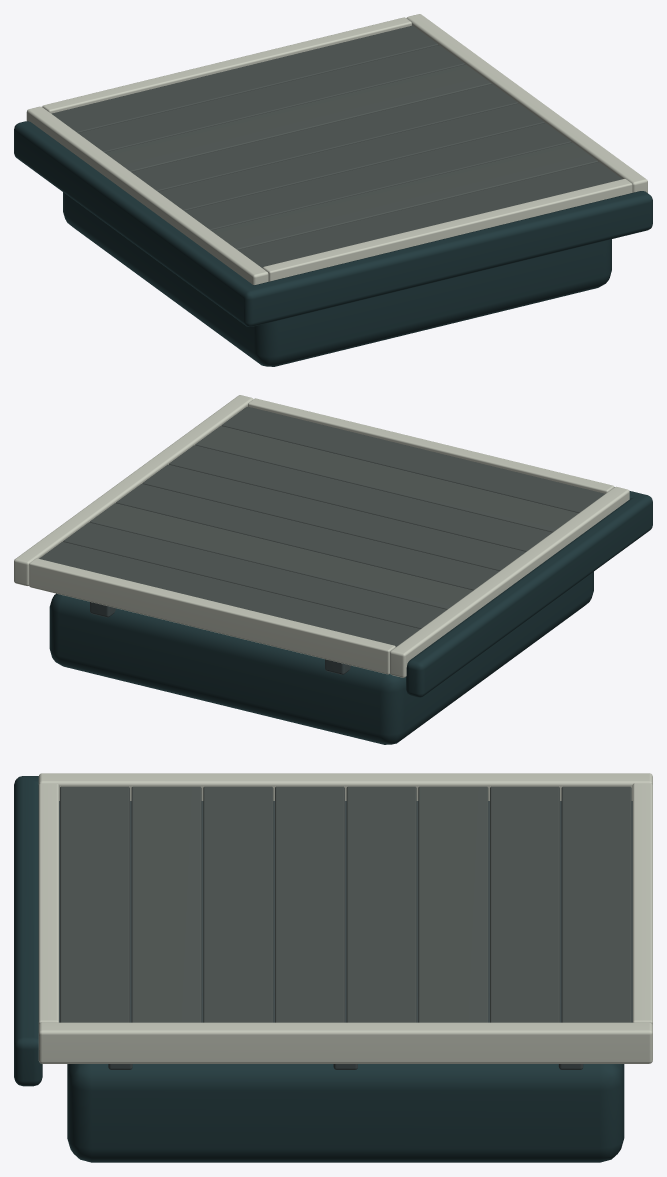
The model's file is city_marina_docks_04.glb.
3 views of the same model, one above another, from view 1: azimuth 30°, elevation 25°; view 2: azimuth 150°, elevation 25°; view 3: azimuth 270°, elevation 25° (orthographic). The views are drawn at different scales.
Parts seen in each view (by area): view 1: CityMarinaDocks04_Mesh; view 2: CityMarinaDocks04_Mesh; view 3: CityMarinaDocks04_Mesh.
Boxes of the visible parts, box(x1,y1,x2,y2) form: CityMarinaDocks04_Mesh: box(14, 14, 652, 366); CityMarinaDocks04_Mesh: box(14, 395, 652, 744); CityMarinaDocks04_Mesh: box(14, 773, 652, 1162).
Bounding box in the file's own units: 3.12 × 0.82 × 3.12.
